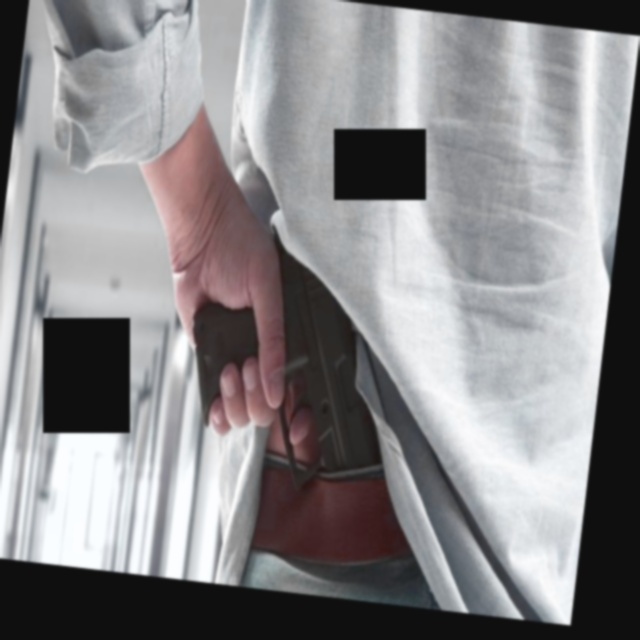gun: (168, 227, 404, 509)
